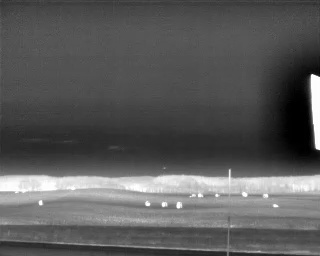BIRD: (162, 165, 167, 171)
